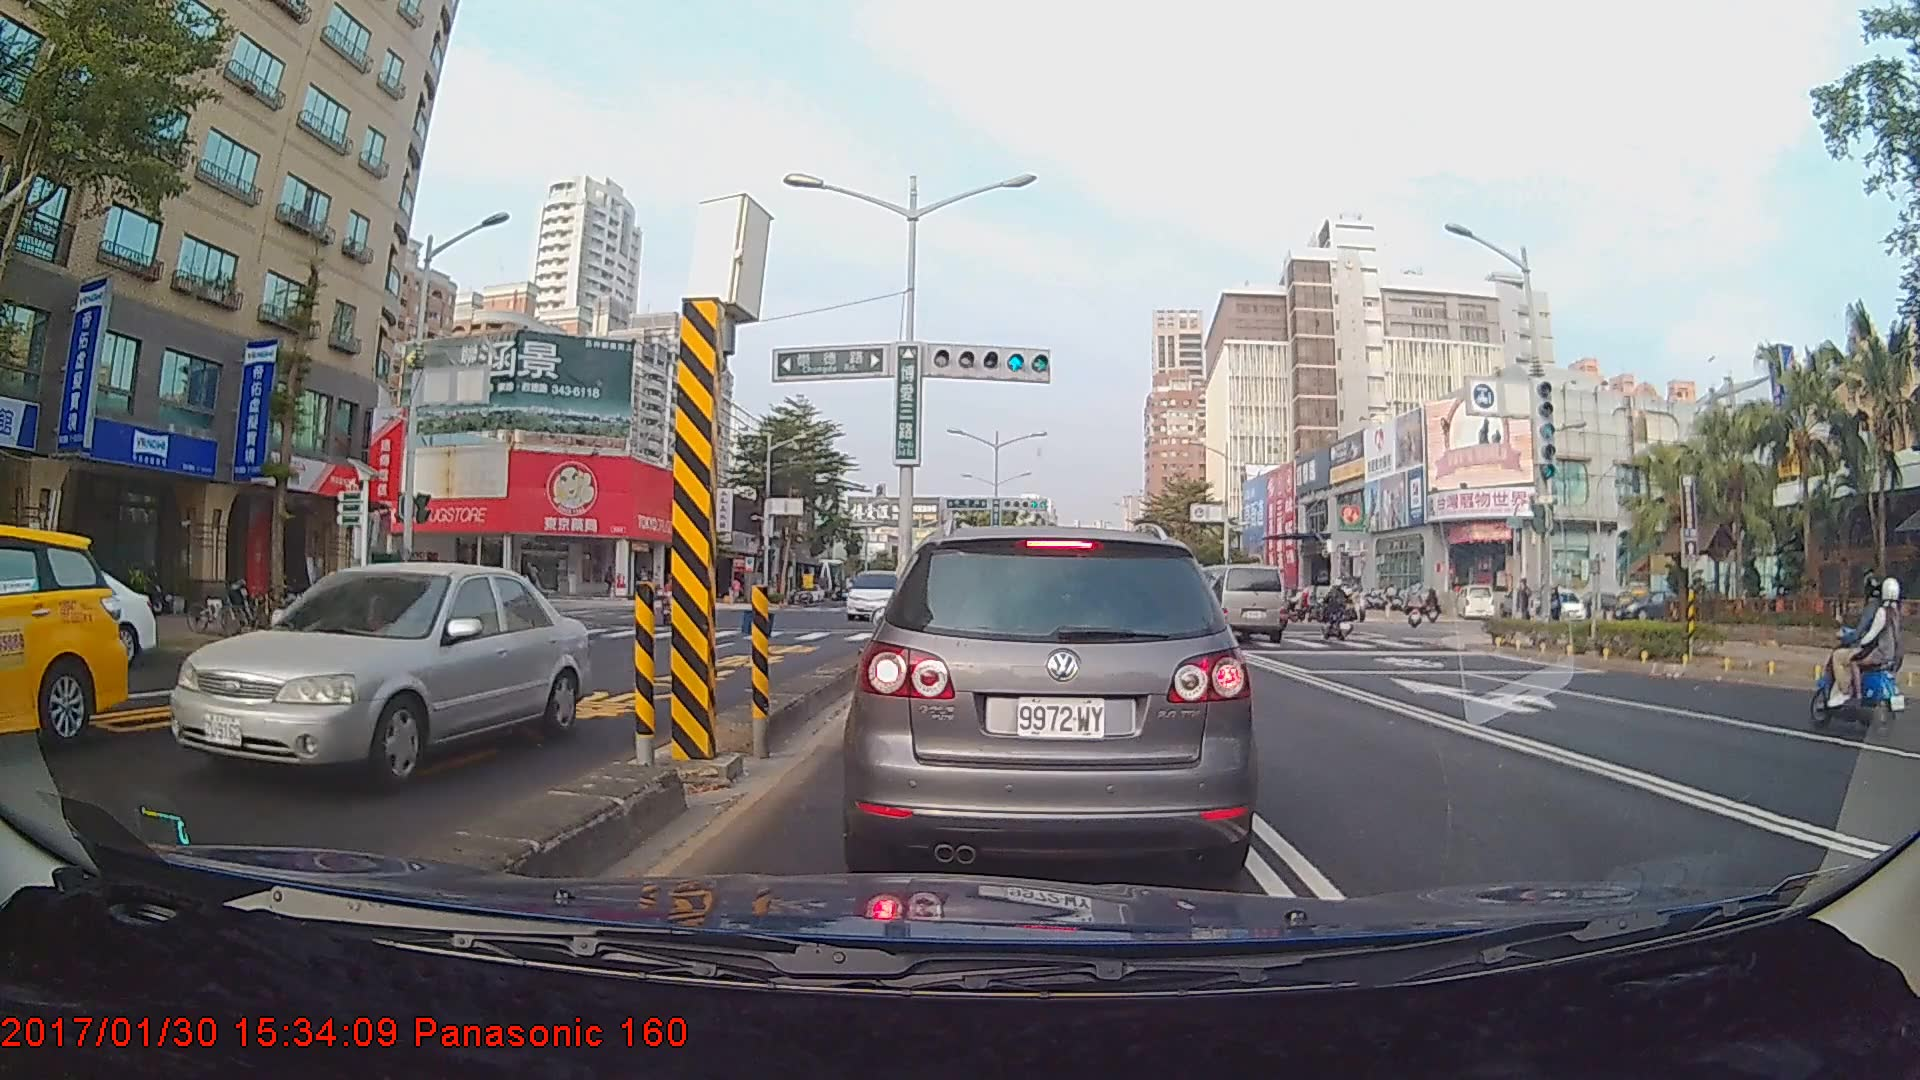rider: (1801, 568, 1911, 738), (1322, 579, 1360, 647), (1400, 582, 1425, 634)
vehicle: (852, 521, 1253, 881), (168, 558, 590, 795), (0, 519, 128, 754), (0, 561, 159, 671), (1178, 562, 1288, 645), (843, 568, 912, 619)
